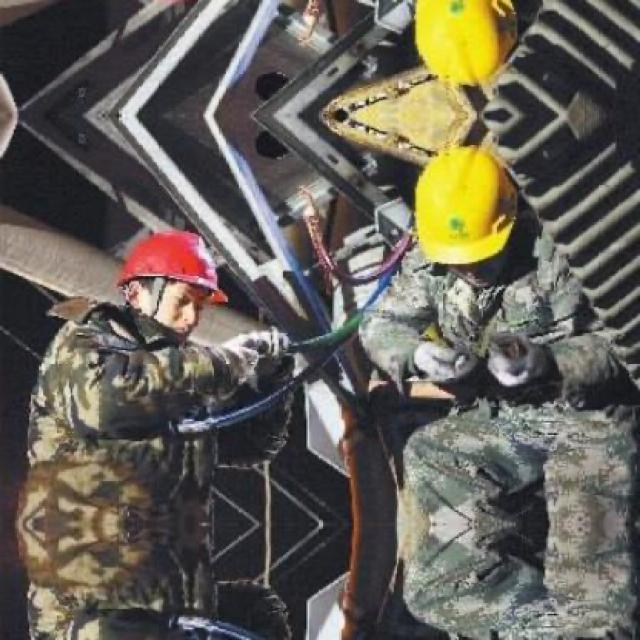helmet: (398, 143, 532, 290), (106, 227, 226, 333), (399, 0, 534, 89)
